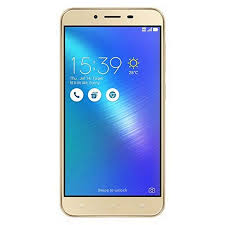asus: (57, 4, 167, 218)
